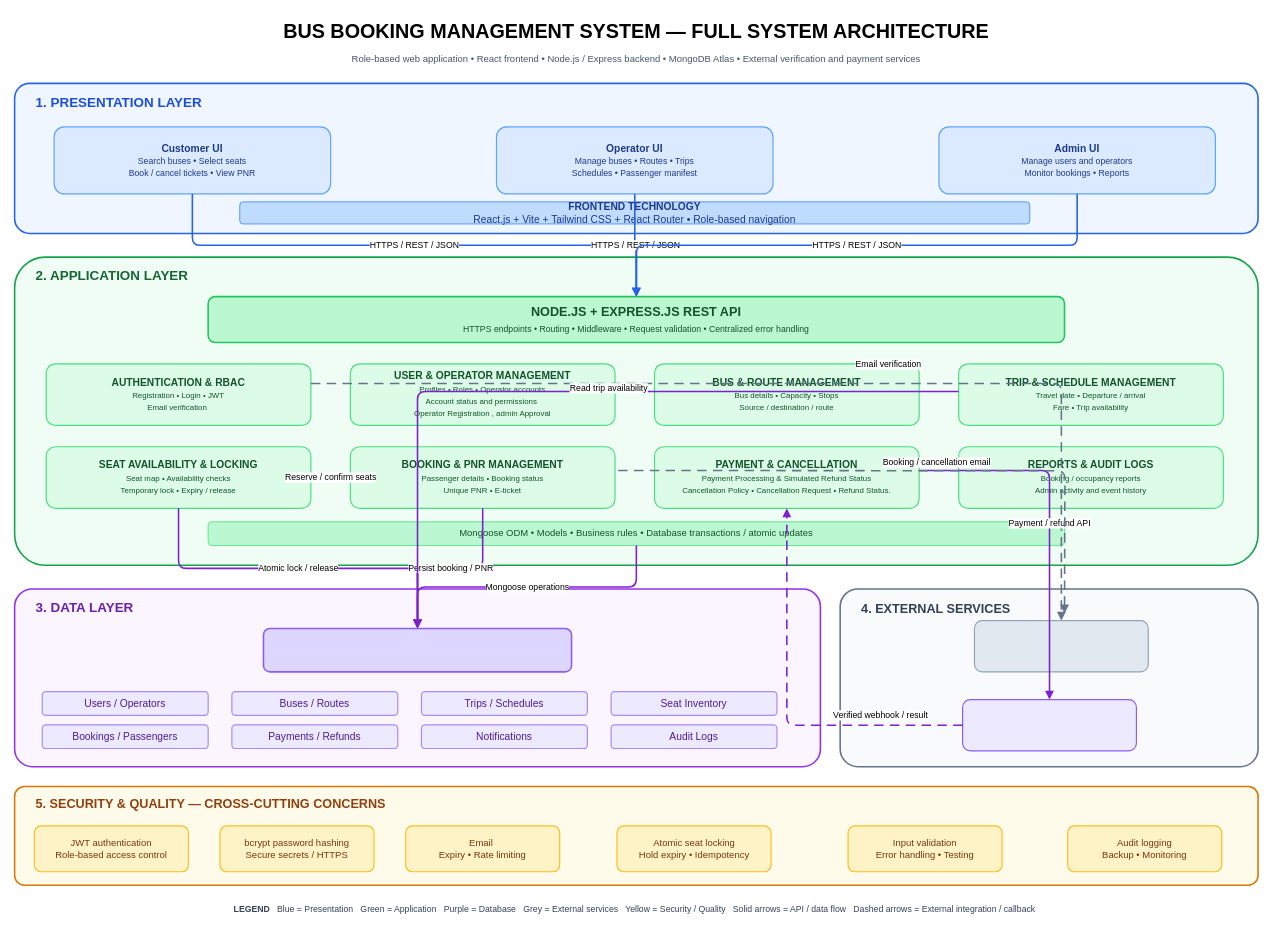
Image size: 1272x934. Some labels were removed from this diagram. Each missing label, with the centre of its shape:
"EMAIL SERVICE Nodemailer / Gmail SMTP Verification links or OTP • Booking email" belongs at pixel 1061 646.
"MongoDB Atlas Persistent document database" belongs at pixel 417 649.
"PAYMENT GATEWAY Gateway test mode Payment processing • Refund API" belongs at pixel 1049 725.
